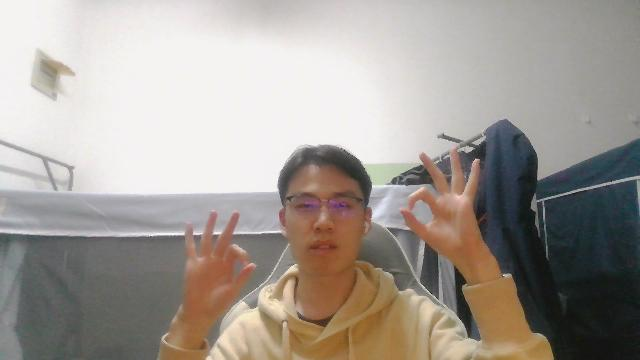ok: (397, 147, 484, 261), (180, 206, 254, 313)
